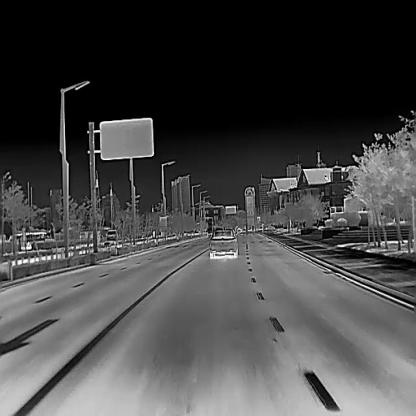bus: (8, 230, 50, 249)
car: (209, 228, 237, 259), (105, 226, 116, 240)
